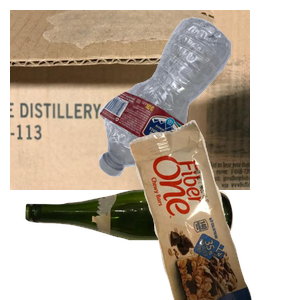cardboard: (10, 10, 250, 190)
glass: (23, 186, 249, 300)
plastic: (96, 15, 300, 184)
trash: (127, 120, 300, 300)
